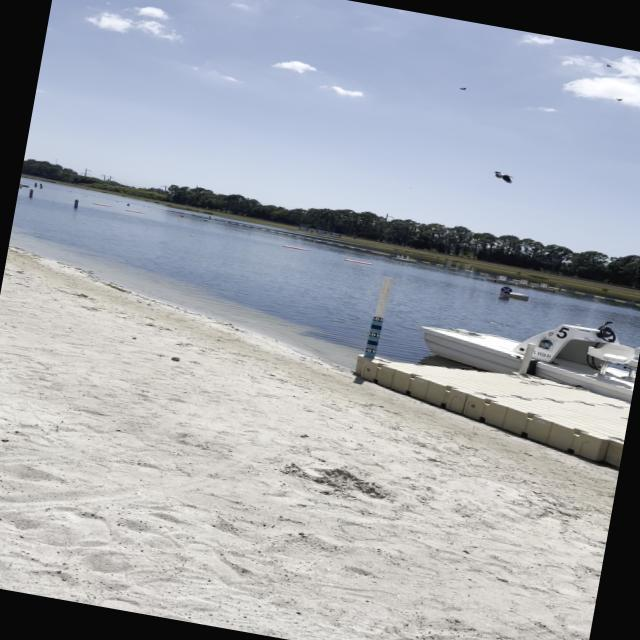buoy: (203, 218, 207, 222), (189, 234, 194, 237), (179, 215, 184, 218)
